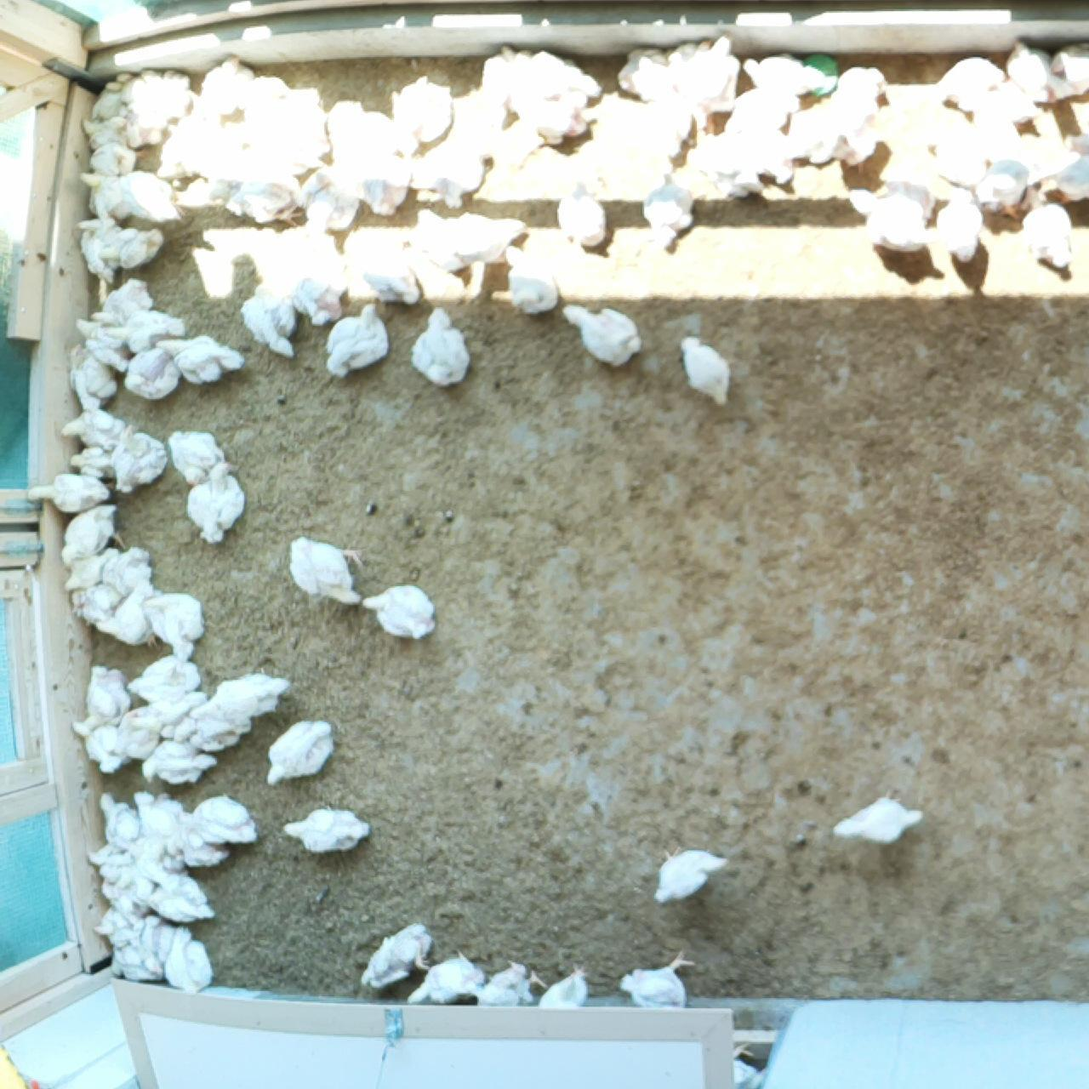chicken: (823, 783, 925, 849), (842, 185, 934, 257), (286, 228, 353, 320), (286, 531, 366, 608), (559, 301, 644, 372), (184, 458, 251, 546), (355, 921, 436, 993), (195, 670, 295, 727), (237, 272, 300, 361), (324, 300, 393, 380), (263, 718, 336, 793), (151, 332, 248, 388), (411, 138, 488, 208), (638, 164, 697, 254), (409, 302, 472, 386), (612, 940, 695, 1003), (388, 72, 453, 150), (362, 579, 441, 643), (647, 844, 729, 905), (280, 802, 372, 855), (223, 167, 303, 227), (1018, 192, 1073, 279), (140, 589, 206, 661), (406, 947, 486, 1005), (356, 237, 424, 305), (91, 582, 162, 647), (740, 43, 829, 94), (930, 51, 1006, 110), (552, 172, 607, 253), (502, 239, 559, 316), (683, 33, 742, 107), (178, 792, 261, 844), (521, 46, 604, 98), (59, 500, 128, 562), (517, 90, 590, 148), (677, 332, 734, 406), (721, 85, 807, 134), (115, 170, 187, 228), (145, 863, 214, 923), (828, 95, 882, 171), (1002, 38, 1062, 106), (304, 159, 361, 230), (882, 136, 935, 212), (616, 41, 677, 107), (687, 130, 760, 185), (126, 650, 198, 705), (972, 153, 1030, 221), (110, 422, 166, 492), (460, 208, 531, 263), (933, 186, 982, 265), (135, 737, 217, 783), (166, 423, 227, 483), (73, 665, 135, 724), (120, 344, 182, 403), (154, 118, 213, 179), (162, 924, 214, 992), (475, 959, 548, 1006), (412, 204, 461, 274), (455, 86, 504, 156), (205, 51, 257, 114), (971, 77, 1040, 124), (94, 275, 155, 328), (361, 144, 407, 214), (781, 103, 832, 164), (72, 218, 118, 284), (69, 719, 125, 773), (74, 316, 128, 372), (125, 688, 206, 725), (489, 114, 540, 172), (100, 226, 167, 270), (69, 343, 115, 407), (483, 42, 530, 104), (104, 545, 159, 597), (131, 786, 187, 837), (751, 128, 797, 189), (104, 308, 185, 342), (930, 137, 986, 186), (58, 408, 126, 448), (967, 107, 1022, 155), (117, 836, 181, 877), (163, 716, 235, 752), (1054, 133, 1089, 207), (174, 821, 229, 867), (540, 964, 592, 1012), (915, 105, 967, 153), (63, 584, 121, 627), (62, 546, 117, 591), (89, 70, 134, 123), (79, 169, 125, 219), (90, 903, 146, 944), (242, 73, 283, 128), (664, 36, 707, 87), (1050, 37, 1089, 93), (98, 868, 145, 913), (839, 62, 889, 104), (98, 789, 137, 842), (110, 941, 159, 983), (67, 442, 118, 482), (117, 70, 163, 114), (122, 714, 163, 763), (157, 71, 191, 125), (80, 113, 128, 146), (86, 841, 133, 872), (90, 140, 137, 171), (125, 115, 164, 147), (136, 914, 170, 949)
